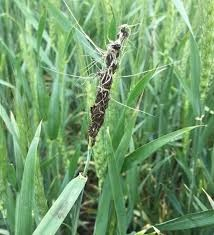Wheat Loose Smut: (85, 29, 130, 144)
